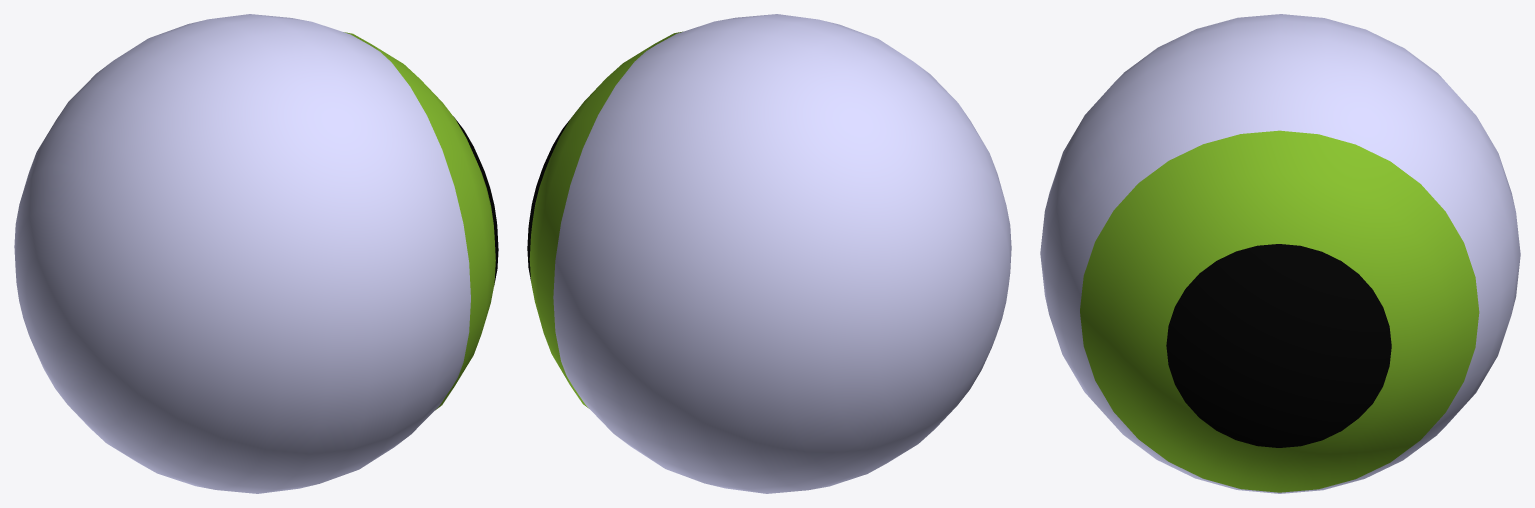
File: Eye_Am_Idle_Babeh.fbx
3 views of the same model, side by side, from view 1: azimuth 30°, elevation 25°; view 2: azimuth 150°, elevation 25°; view 3: azimuth 270°, elevation 25° (orthographic).
Visible parts, largest first — view 1: Eye; view 2: Eye; view 3: Eye.
Part boxes in pixels (x1=…): Eye: x1=14, y1=14, x2=498, y2=493; Eye: x1=527, y1=14, x2=1011, y2=493; Eye: x1=1040, y1=14, x2=1520, y2=493.
Size of the model in its own units: 6110 by 6024 by 6024.
